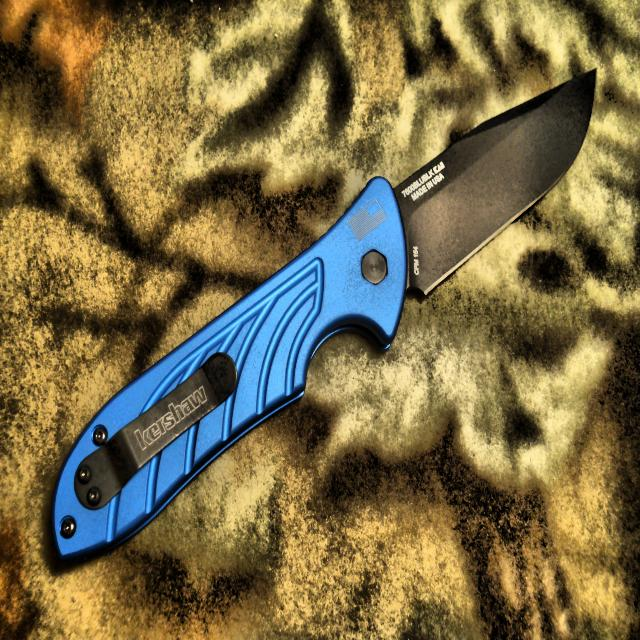knife: (55, 69, 599, 563)
